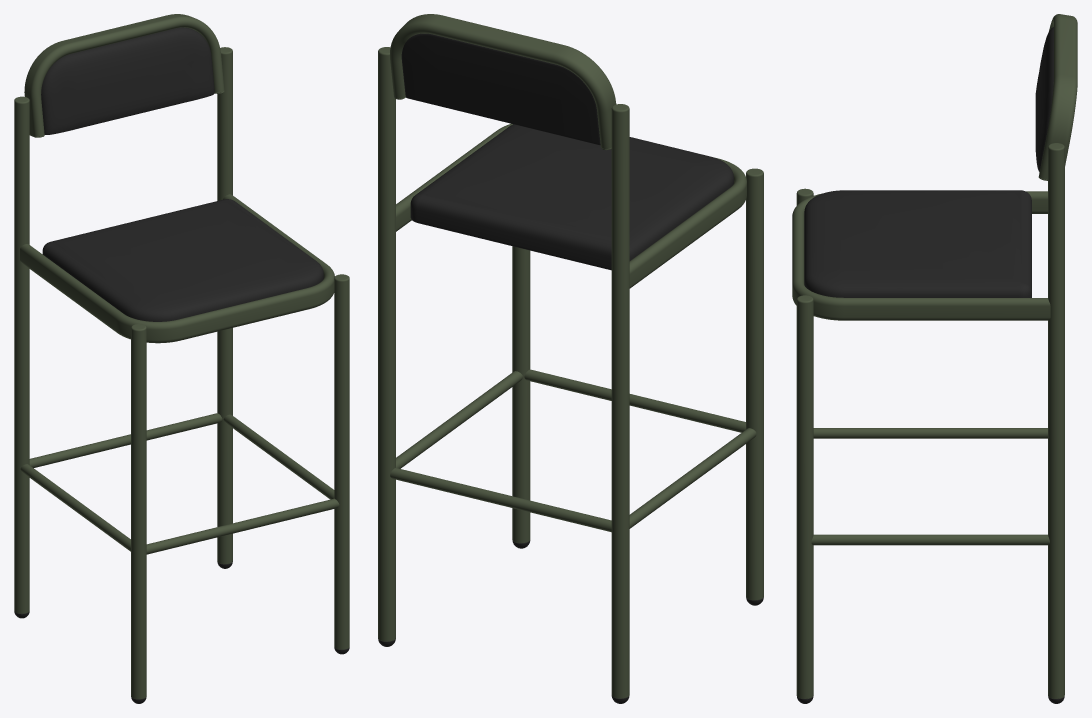
File: chair-noname-bar.glb
The picture shows the model from 3 angles, left to right: view 1: azimuth 30°, elevation 25°; view 2: azimuth 150°, elevation 25°; view 3: azimuth 270°, elevation 25°; orthographic projection. The views are drawn at different scales.
Parts seen in each view (by area): view 1: rb_chair_noname_bar; view 2: rb_chair_noname_bar; view 3: rb_chair_noname_bar.
Boxes of the visible parts, x1,y1,x2,y2 form: rb_chair_noname_bar: [14, 14, 349, 703]; rb_chair_noname_bar: [378, 14, 763, 703]; rb_chair_noname_bar: [792, 14, 1077, 703].
Size of the model in its own units: 0.448 by 1.11 by 0.4755.
